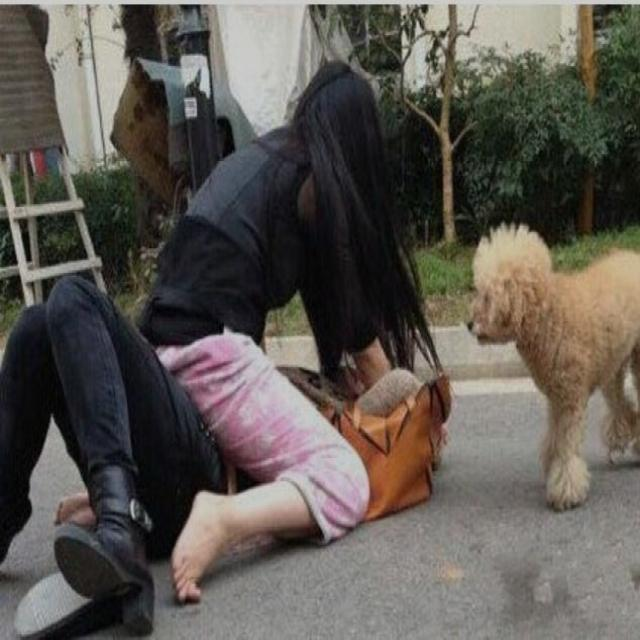fight: (1, 46, 455, 627)
